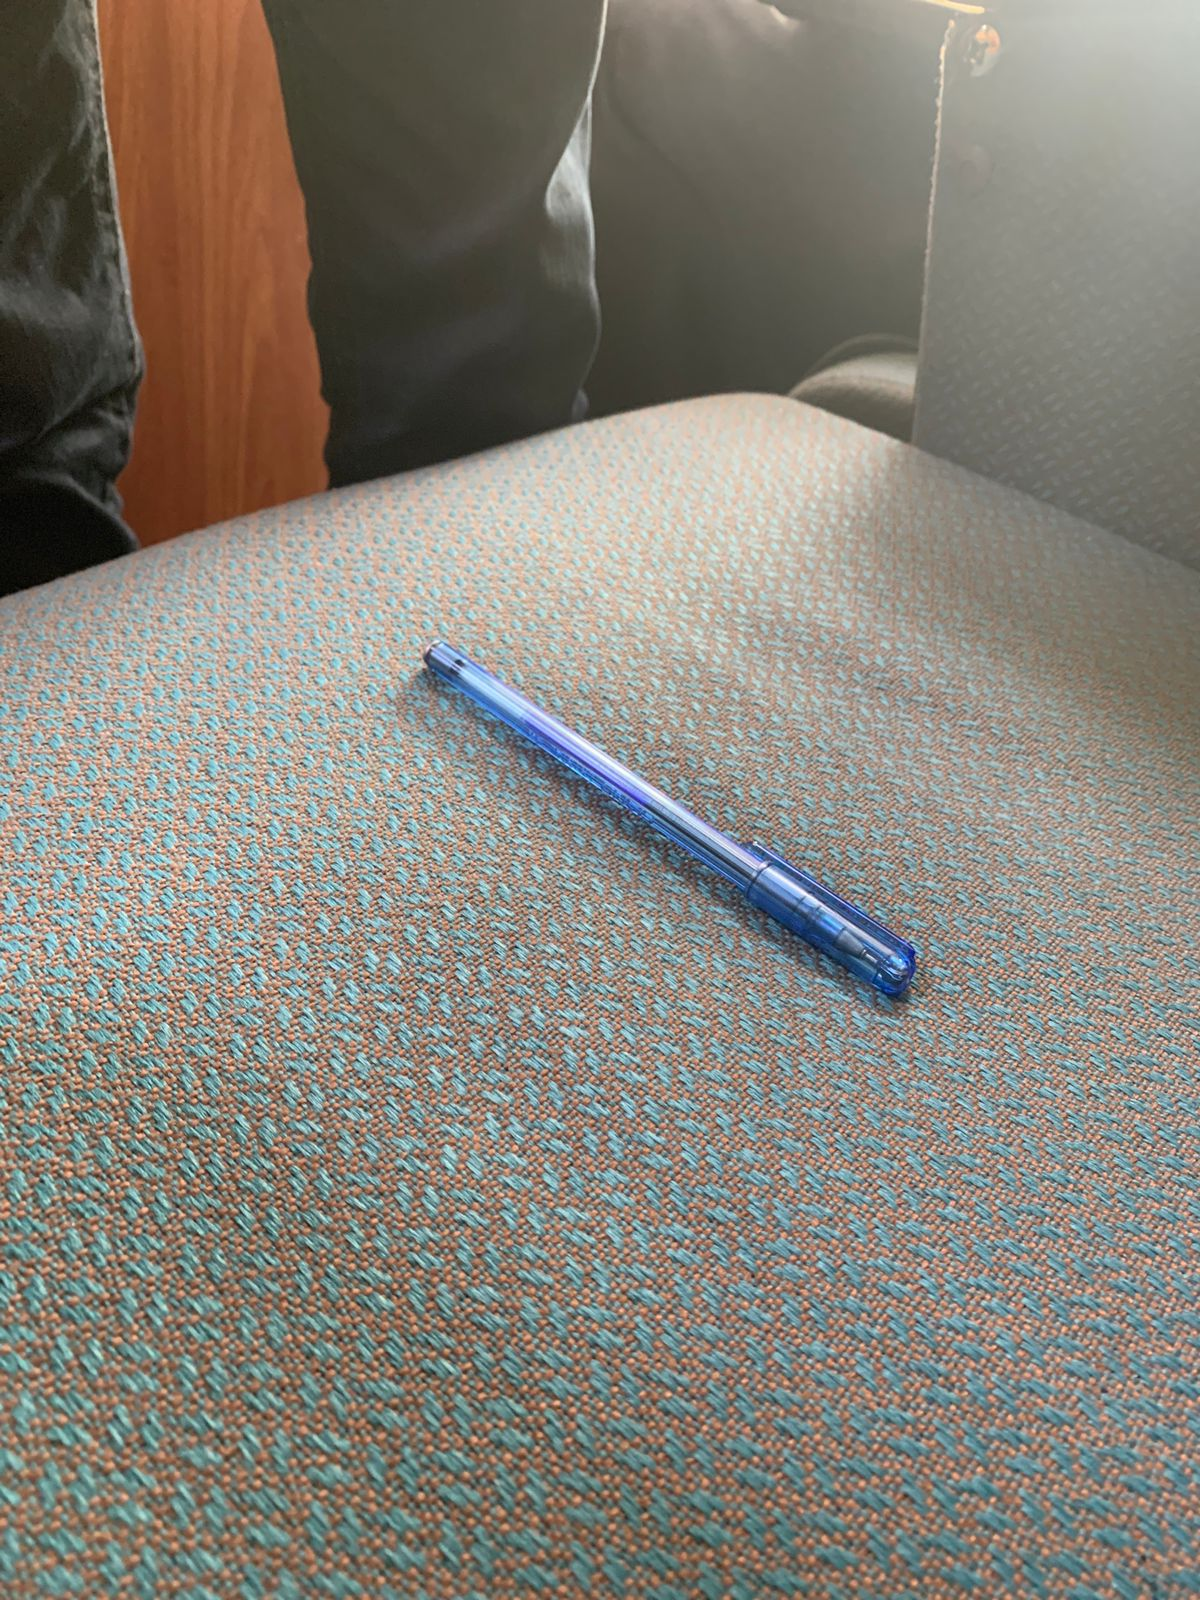pen: (297, 583, 1042, 1053)
